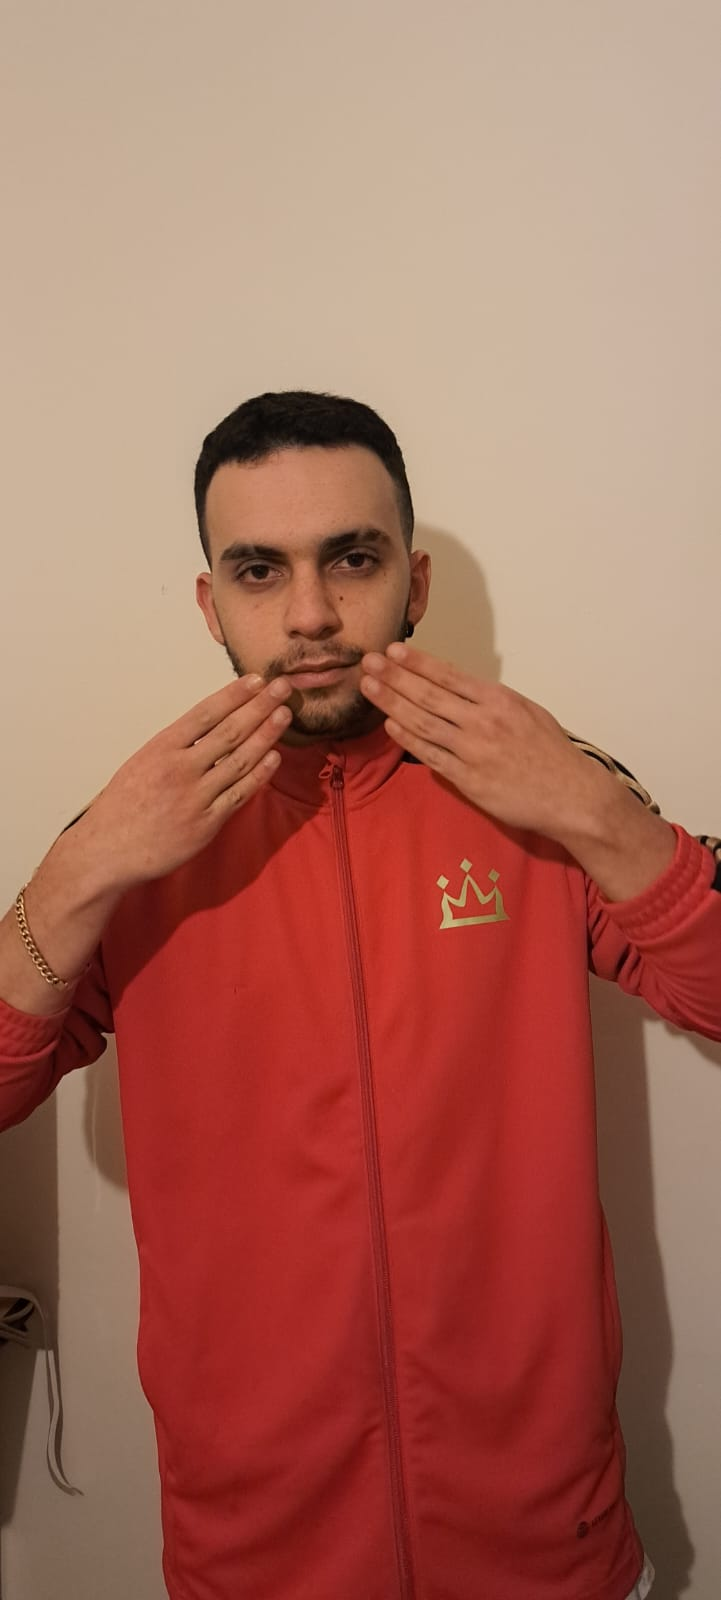grazie: (84, 636, 535, 893)
